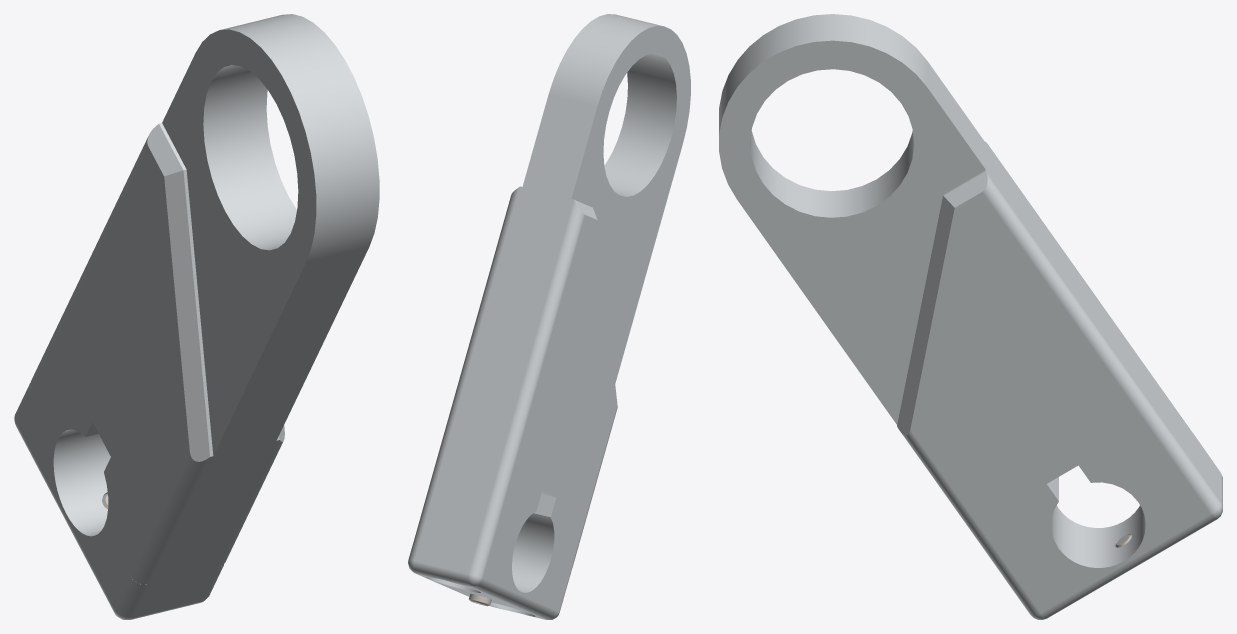
3 renders of one model, left to right at view 1: azimuth 30°, elevation 25°; view 2: azimuth 150°, elevation 25°; view 3: azimuth 270°, elevation 25°, orthographic. The views are drawn at different scales.
Visible parts, largest first — view 1: B1FINAL; view 2: B1FINAL; view 3: B1FINAL.
Part boxes in pixels (x1,y1,x2,y2): B1FINAL: (14,14,379,619); B1FINAL: (408,14,690,619); B1FINAL: (719,14,1222,619).
Size of the model in its own units: 0.015 by 0.101 by 0.0799.
Materials: 3 (1 with a texture image).
